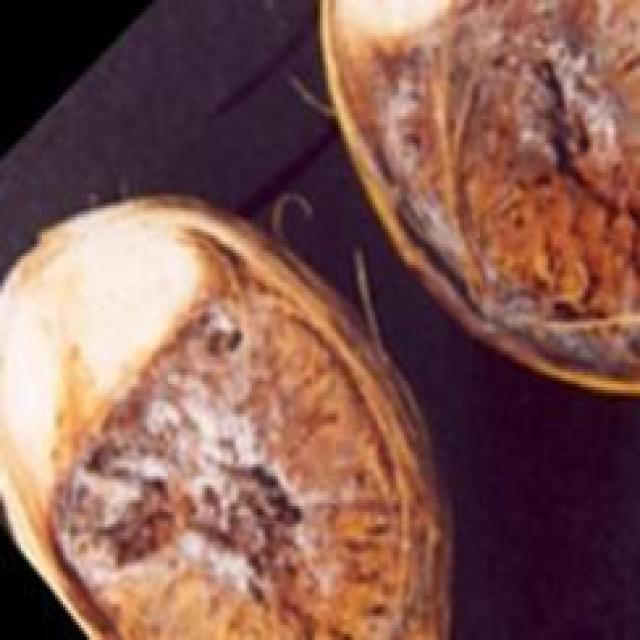damaged: (0, 196, 449, 634), (323, 0, 637, 393)
